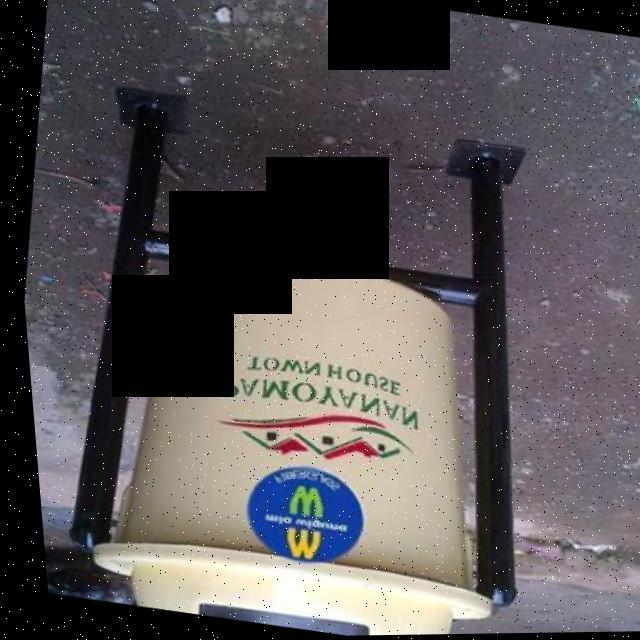bin: (5, 69, 640, 640)
